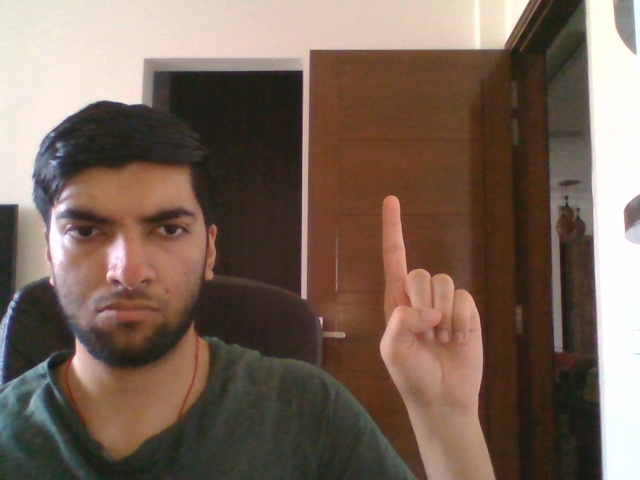LetterD: (379, 194, 485, 414)
